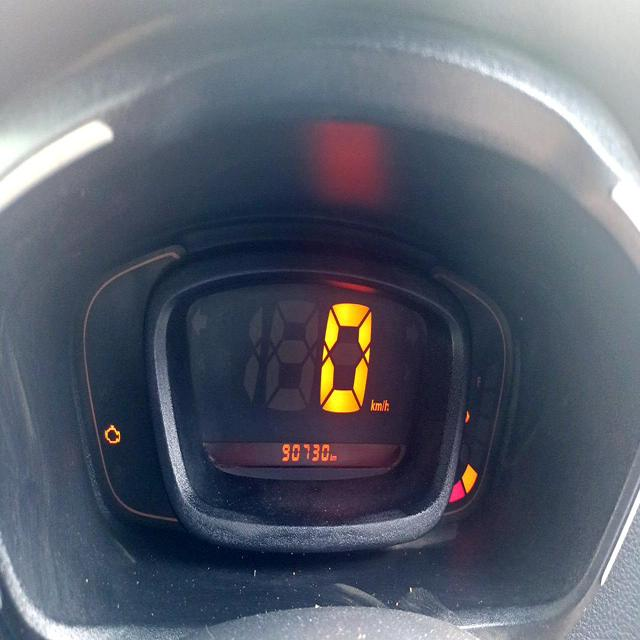odometer: (277, 440, 330, 466)
